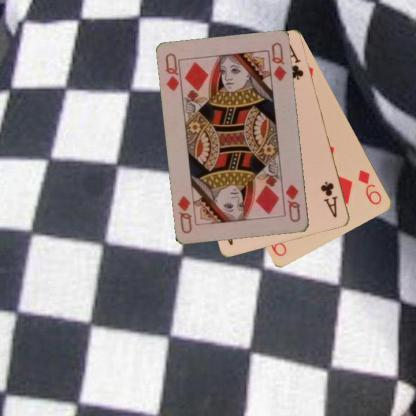9d: (355, 167, 384, 206)
Ac: (318, 179, 340, 219)
Qd: (163, 50, 184, 95), (283, 182, 302, 224)
